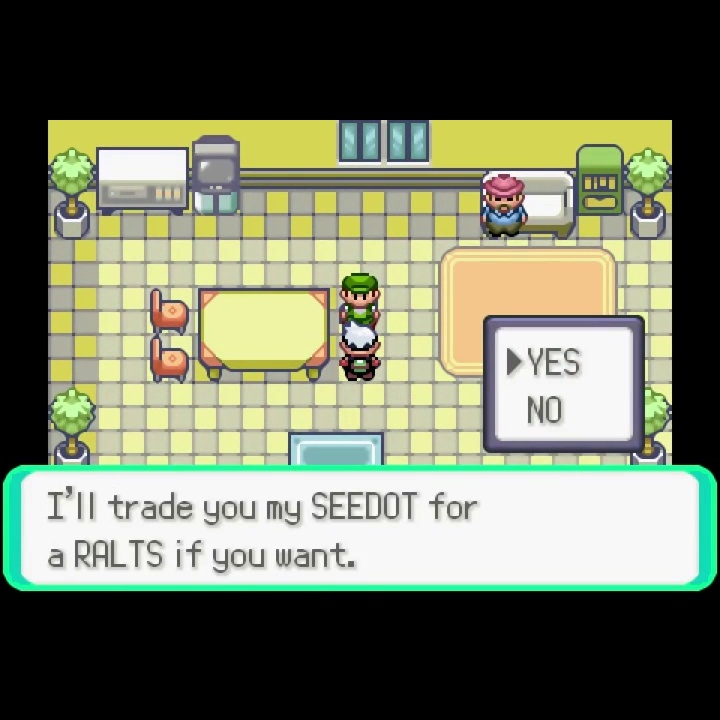agent: (336, 321, 385, 384)
npc: (478, 171, 529, 240), (337, 272, 383, 330)
